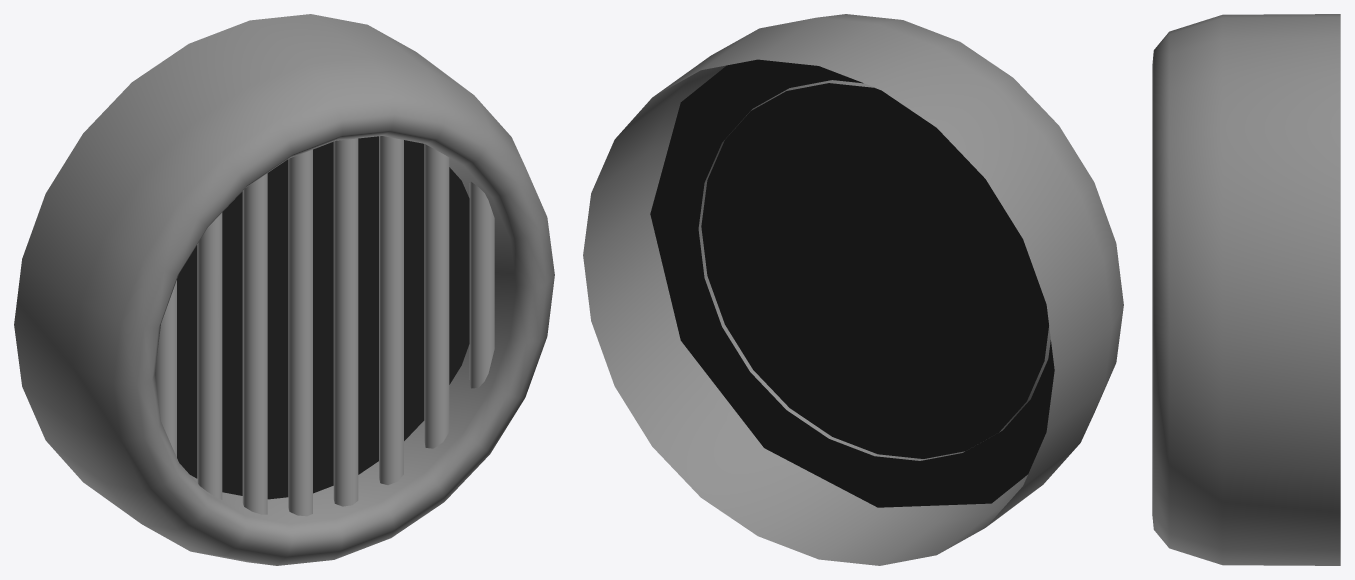
Rendered from gridround_001.fbx.
3 renders of one model, left to right at view 1: azimuth 30°, elevation 25°; view 2: azimuth 150°, elevation 25°; view 3: azimuth 270°, elevation 25°, orthographic.
Parts seen in each view (by area): view 1: gridround_001; view 2: gridround_001; view 3: gridround_001.
Boxes of the visible parts, x1=… form: gridround_001: x1=14, y1=14, x2=554, y2=565; gridround_001: x1=583, y1=14, x2=1123, y2=565; gridround_001: x1=1152, y1=14, x2=1340, y2=565.
Bounding box in the file's own units: 1134 × 386 × 1134.
